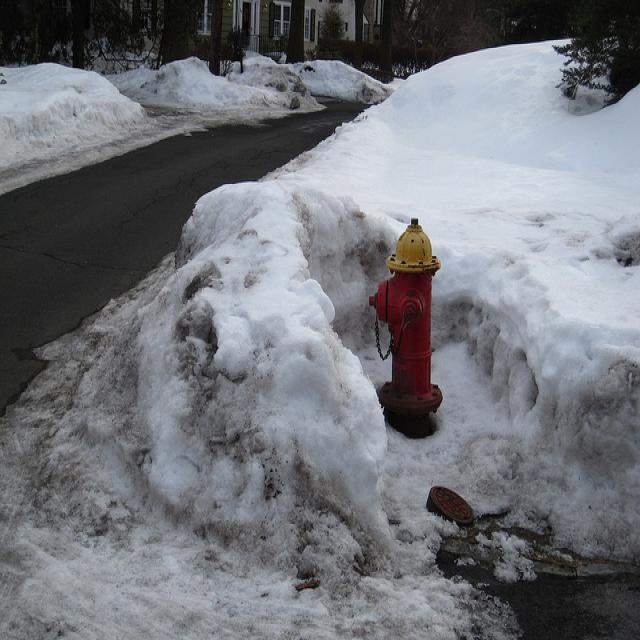fire_hydrant: (366, 218, 443, 438)
